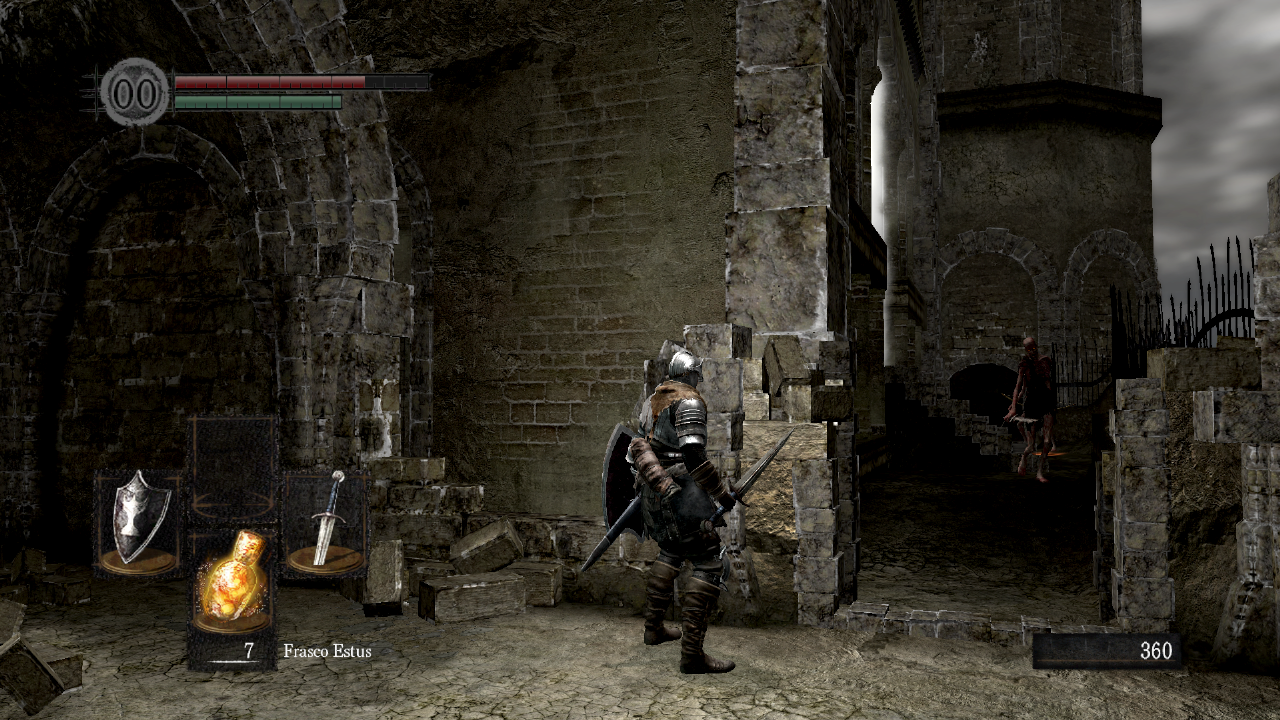hollow: (1004, 337, 1053, 483)
player: (580, 350, 794, 675)
